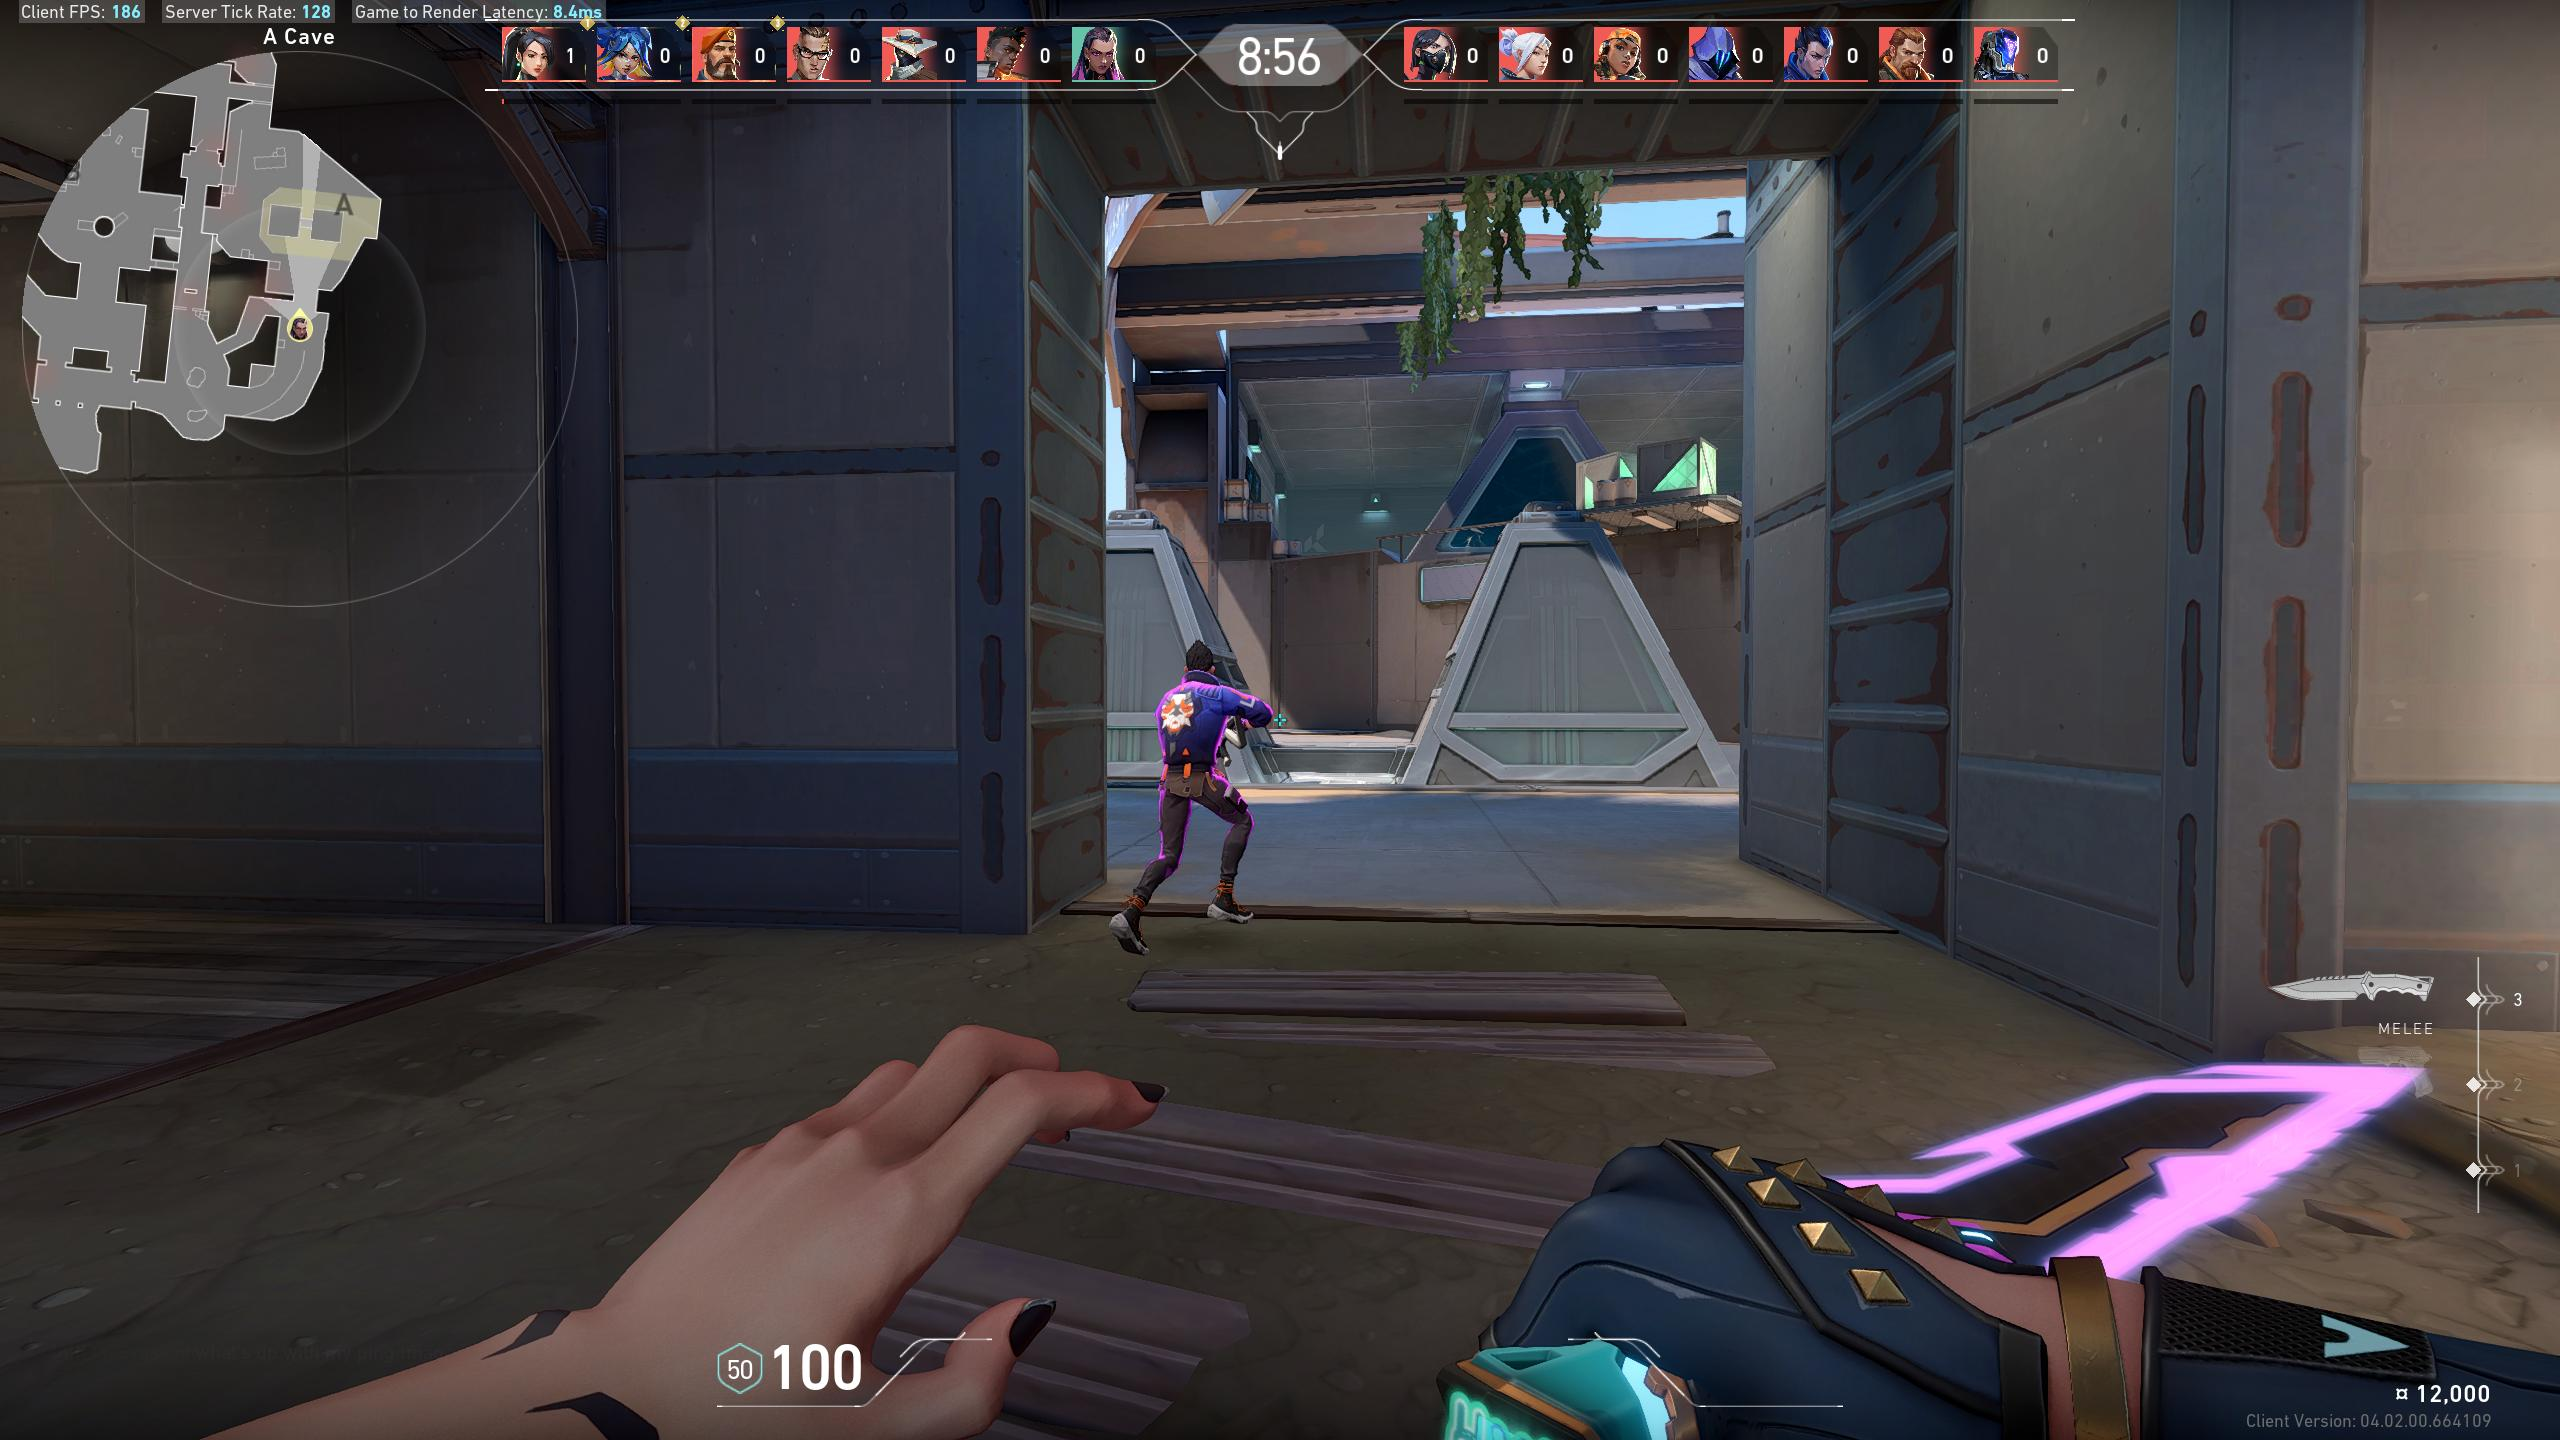enemyBody: (1173, 686, 1210, 756)
enemyHead: (1187, 652, 1210, 675)
